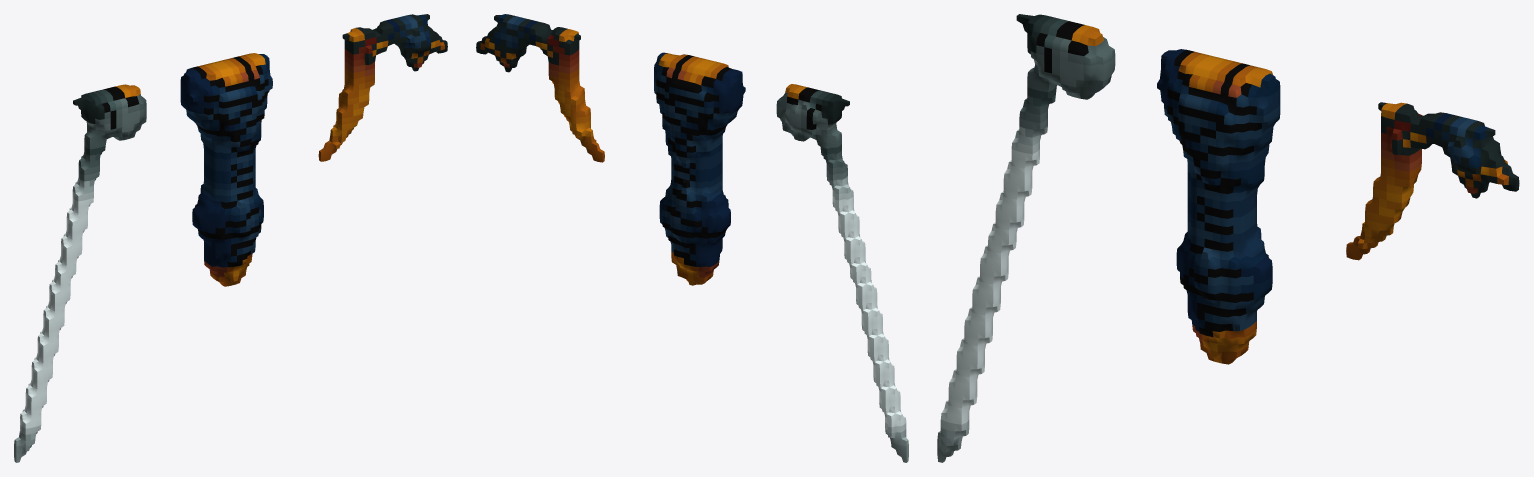
The model's file is Fight_707_2_11.obj.
The picture shows the model from 3 angles, left to right: view 1: azimuth 30°, elevation 25°; view 2: azimuth 150°, elevation 25°; view 3: azimuth 330°, elevation 25°; orthographic projection. The views are drawn at different scales.
Bounding box in the file's own units: 7.37 × 5.68 × 0.8.
1 material, 1 textured.
